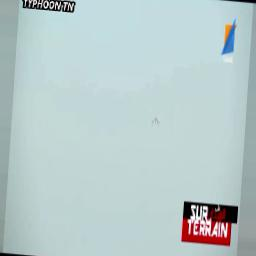Airplane: (149, 116, 162, 126)
